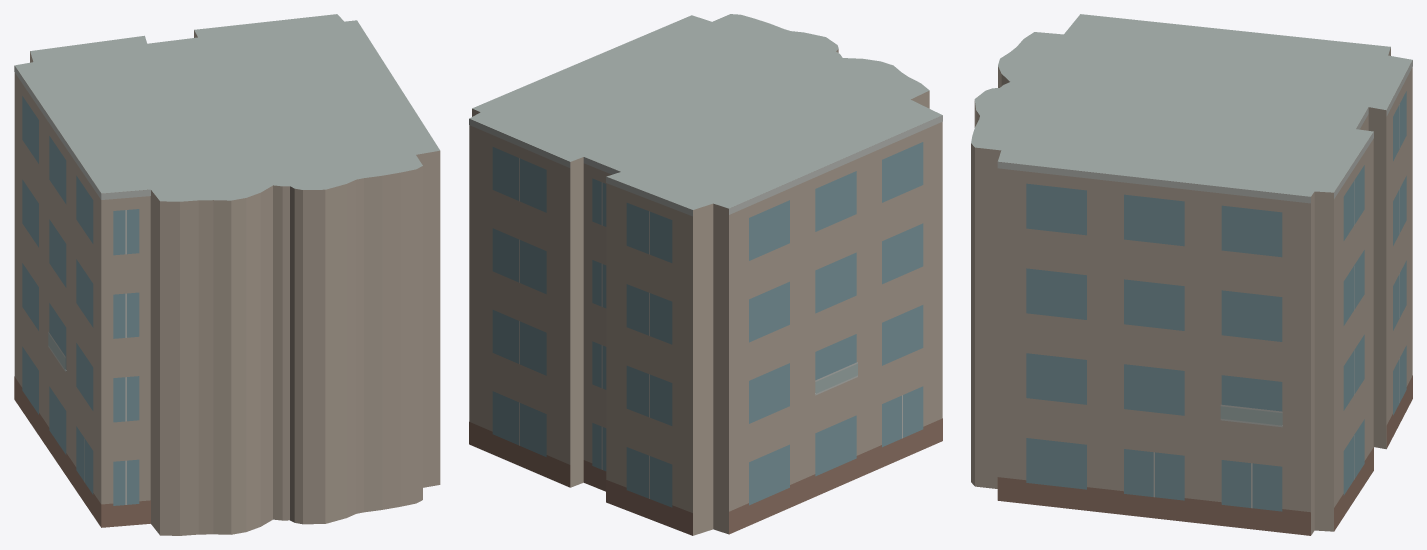
File: survey-upis-32828599.glb
3 views of the same model, side by side, from view 1: azimuth 30°, elevation 25°; view 2: azimuth 150°, elevation 25°; view 3: azimuth 270°, elevation 25° (orthographic). The views are drawn at different scales.
Visible parts, largest first — view 1: survey-upis-32828599.tmp; view 2: survey-upis-32828599.tmp; view 3: survey-upis-32828599.tmp.
Boxes of the visible parts, <box> form: survey-upis-32828599.tmp: <box>14,14,440,535</box>; survey-upis-32828599.tmp: <box>469,14,942,535</box>; survey-upis-32828599.tmp: <box>971,14,1412,535</box>.
Size of the model in its own units: 14.35 by 12.4 by 14.65.
